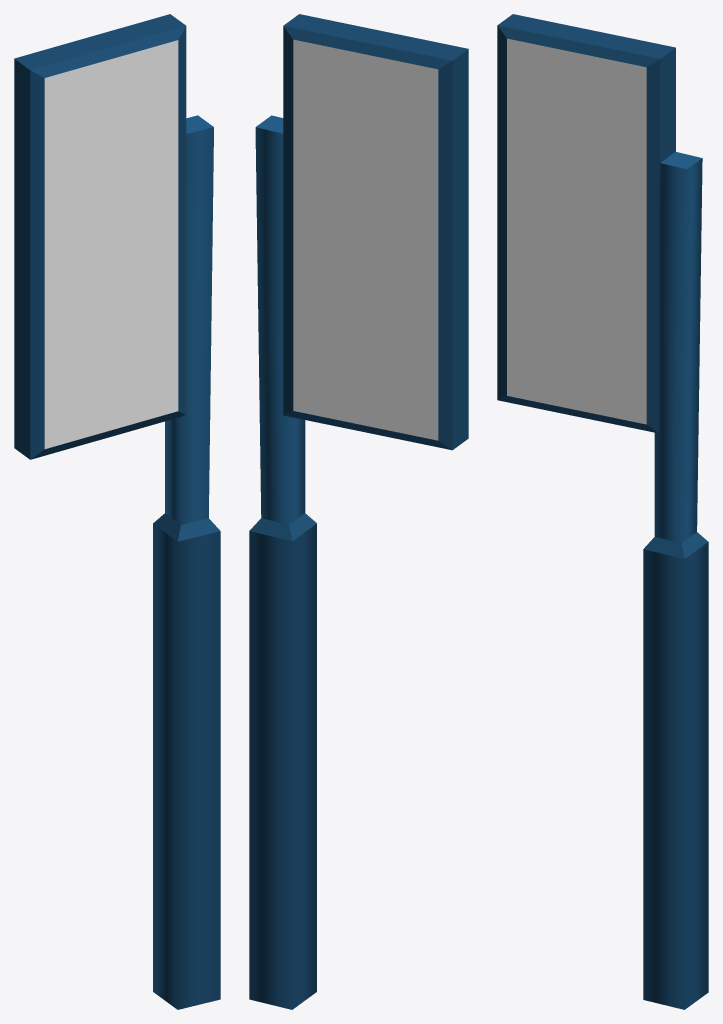
Rendered from SM_Road_part2.fbx.
The picture shows the model from 3 angles, left to right: view 1: azimuth 30°, elevation 25°; view 2: azimuth 150°, elevation 25°; view 3: azimuth 330°, elevation 25°; orthographic projection. The views are drawn at different scales.
Parts seen in each view (by area): view 1: SM_Road_part2; view 2: SM_Road_part2; view 3: SM_Road_part2.
Part boxes in pixels (x1,y1,x2,y2): SM_Road_part2: (14,14,220,1009); SM_Road_part2: (249,14,468,1009); SM_Road_part2: (497,14,708,1009).
Size of the model in its own units: 292 by 1416 by 76.25.
